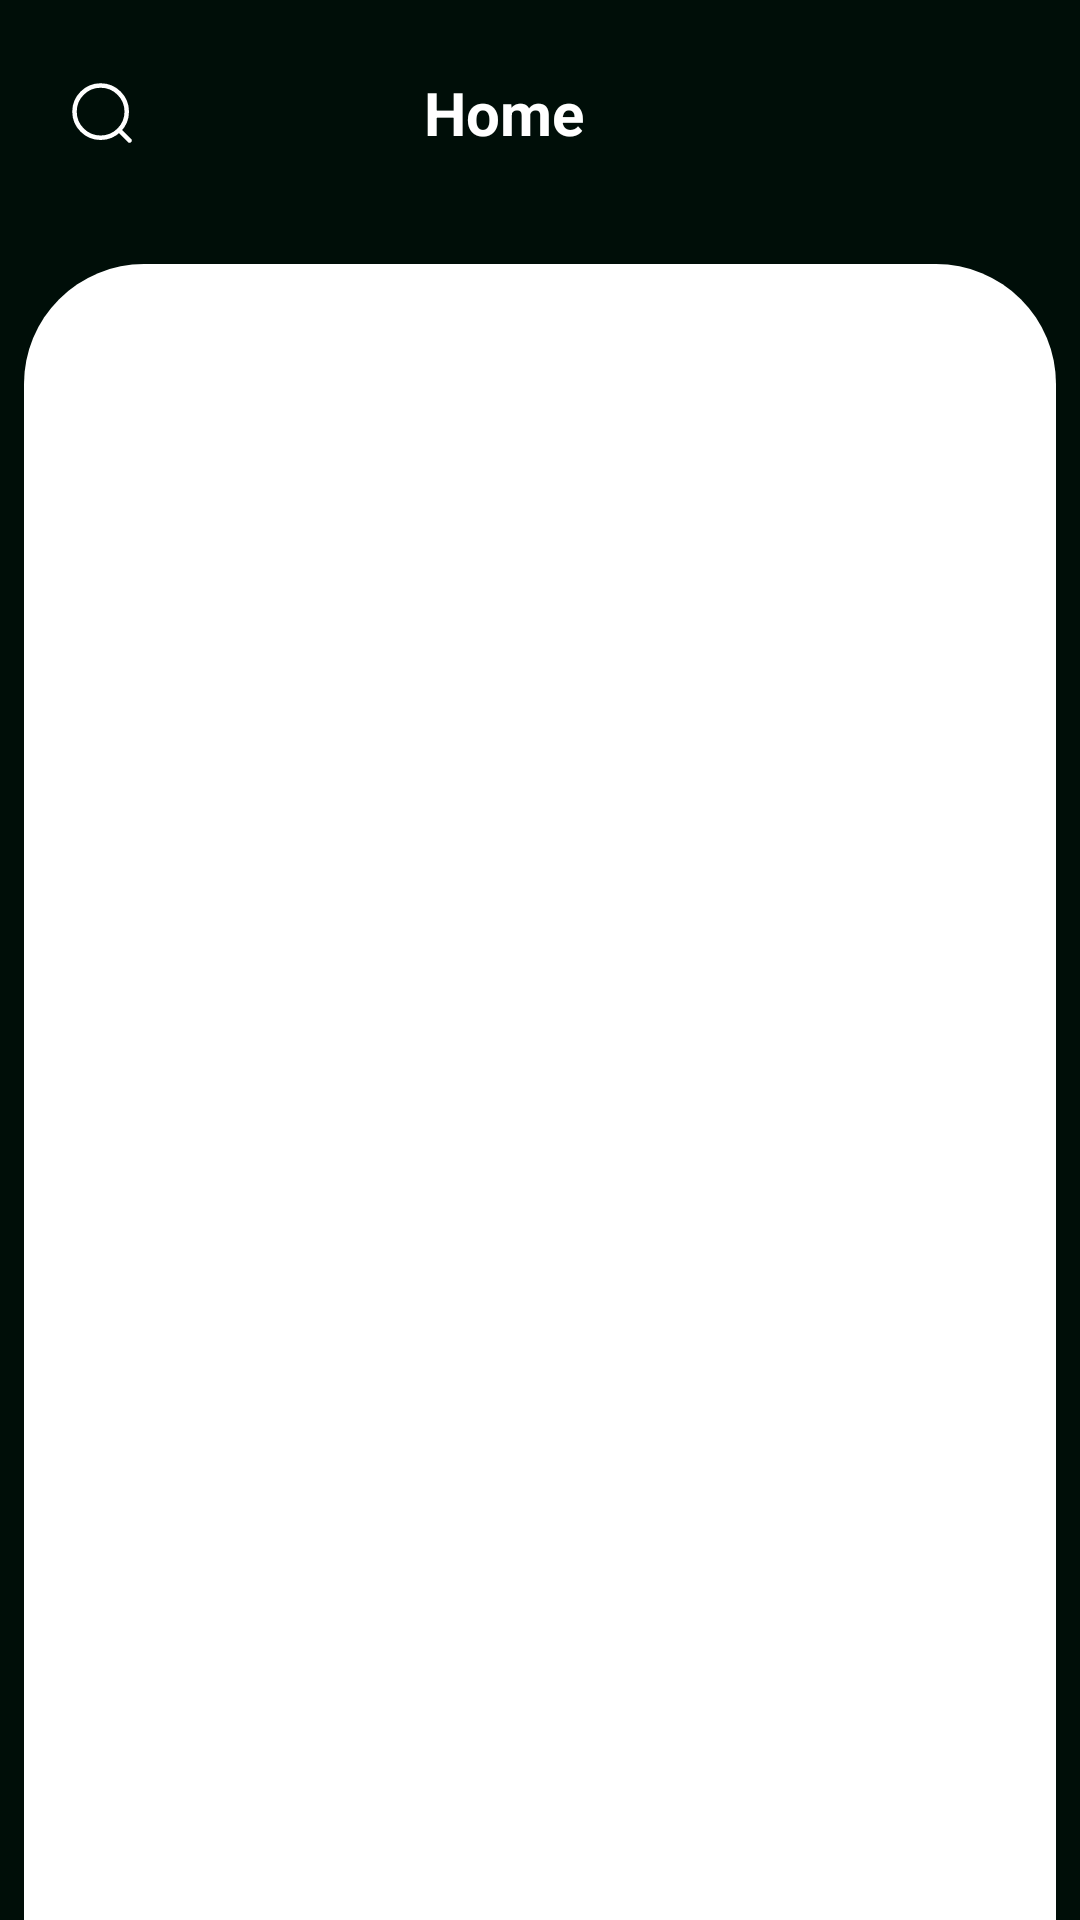

Where to tap for icons on this 1080*1920 app screen, as [x,y]:
fragments search: [102,113]
